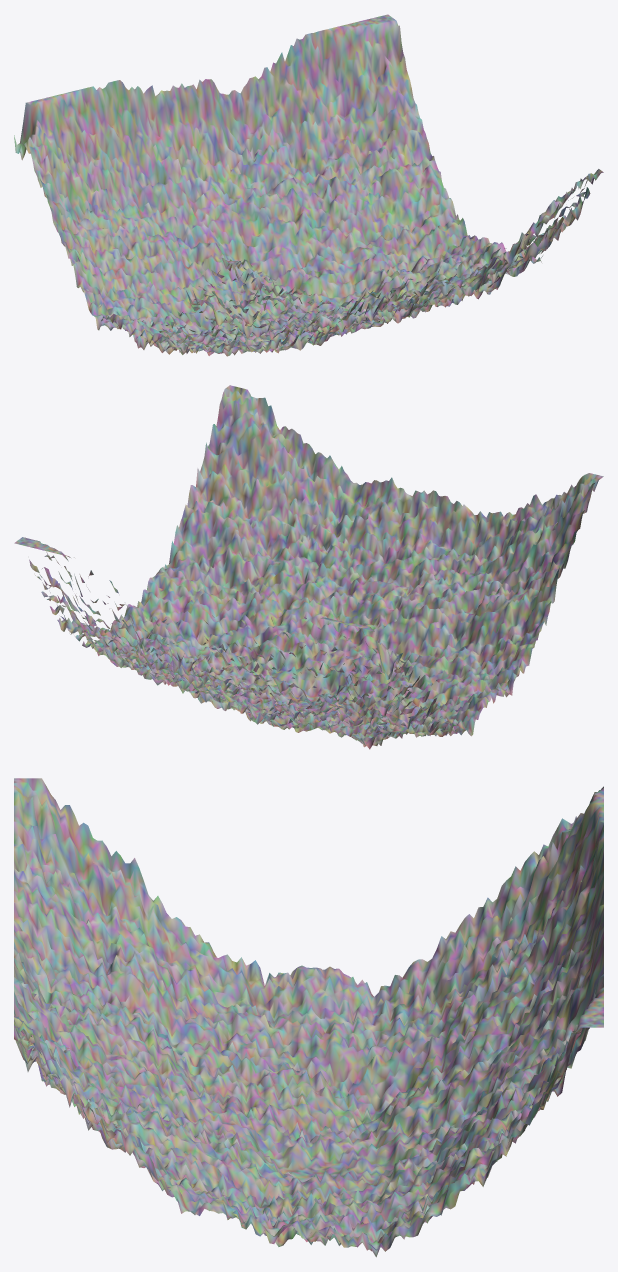
File: dsm_b7c130ad56_mesh.glb
The picture shows the model from 3 angles, top to bottom: view 1: azimuth 30°, elevation 25°; view 2: azimuth 150°, elevation 25°; view 3: azimuth 270°, elevation 25°; orthographic projection. The views are drawn at different scales.
Parts seen in each view (by area): view 1: geometry_0; view 2: geometry_0; view 3: geometry_0.
Boxes of the visible parts, box(x1,y1,x2,y2) form: geometry_0: box(14, 14, 603, 356); geometry_0: box(14, 385, 603, 749); geometry_0: box(14, 778, 603, 1257).
Bounding box in the file's own units: 2 × 1 × 2.
